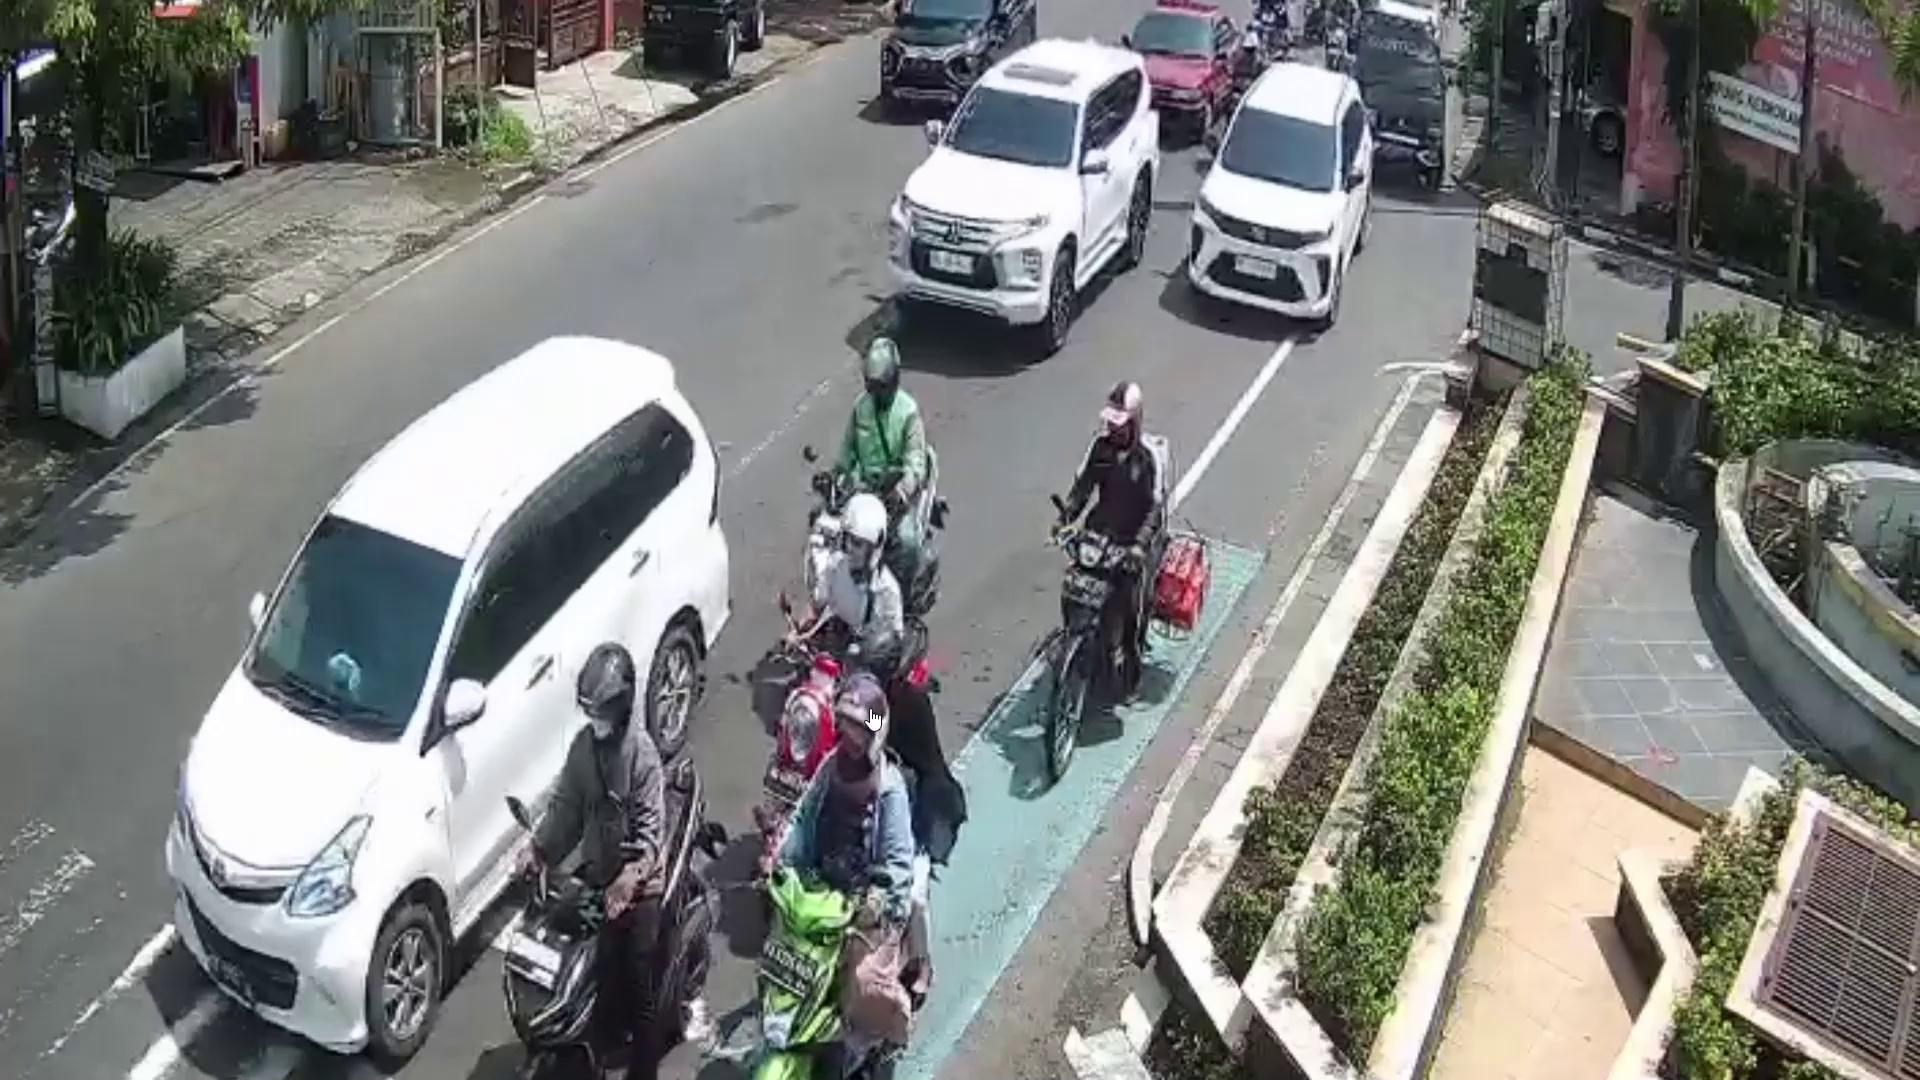car: (169, 332, 732, 1059), (889, 38, 1159, 347), (1184, 62, 1373, 327), (1353, 0, 1448, 198), (882, 1, 1040, 109), (1127, 0, 1247, 141)
motorbike: (502, 758, 724, 1080), (753, 870, 881, 1080), (1039, 531, 1131, 783)
